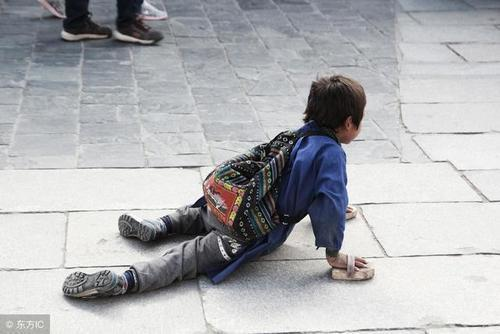Fall-Detected: (54, 62, 392, 306)
